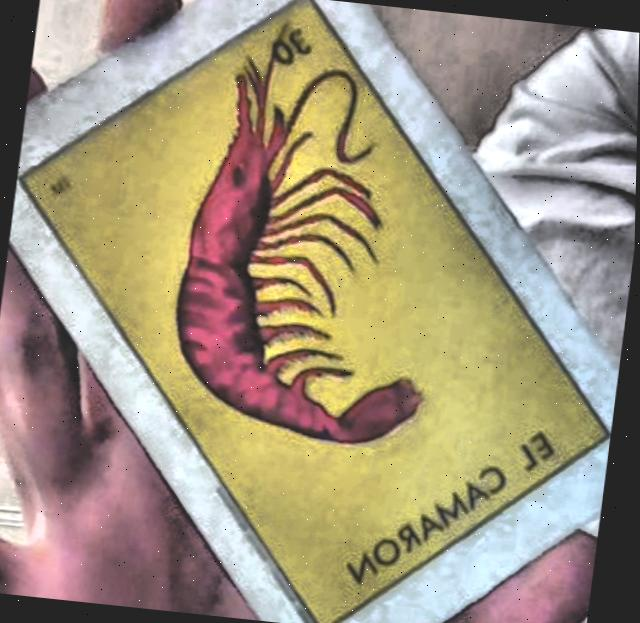El Camaron: (20, 0, 608, 623)
